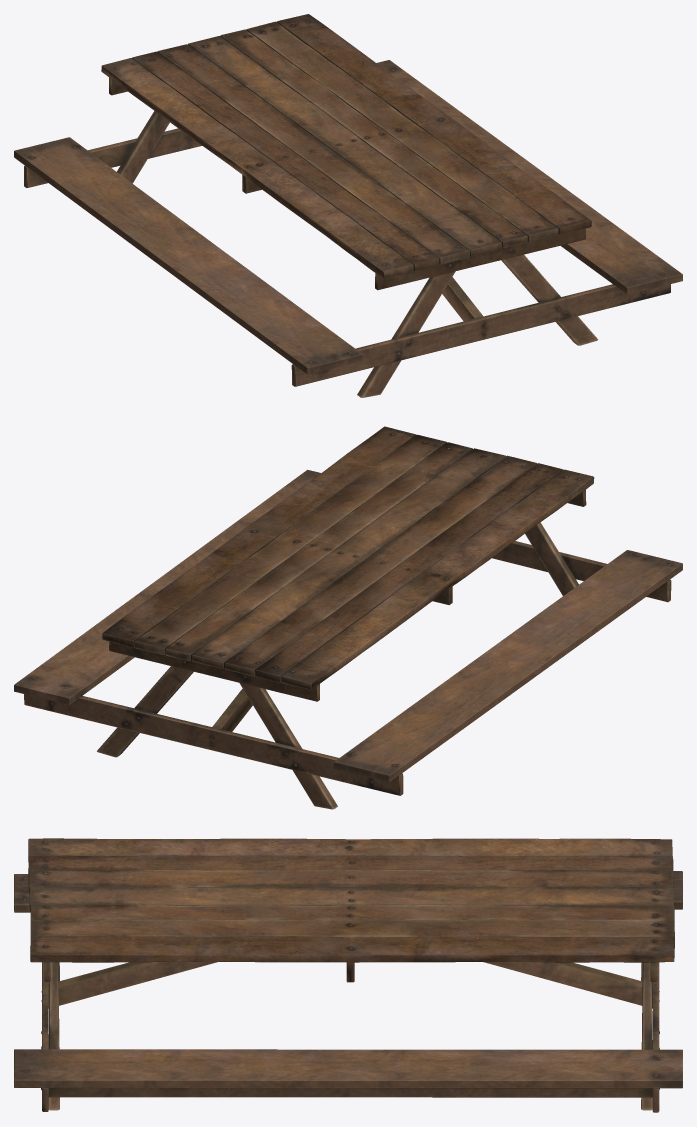
The model's file is wooden_picnic_table.gltf.
3 renders of one model, top to bottom at view 1: azimuth 30°, elevation 25°; view 2: azimuth 150°, elevation 25°; view 3: azimuth 270°, elevation 25°, orthographic. The views are drawn at different scales.
Parts seen in each view (by area): view 1: wooden_picnic_table; view 2: wooden_picnic_table; view 3: wooden_picnic_table.
Boxes of the visible parts, x1,y1,x2,y2 form: wooden_picnic_table: [14, 14, 682, 397]; wooden_picnic_table: [14, 426, 682, 809]; wooden_picnic_table: [14, 838, 682, 1112].
Size of the model in its own units: 2.24 by 0.746 by 3.02.
1 material, 1 textured.
